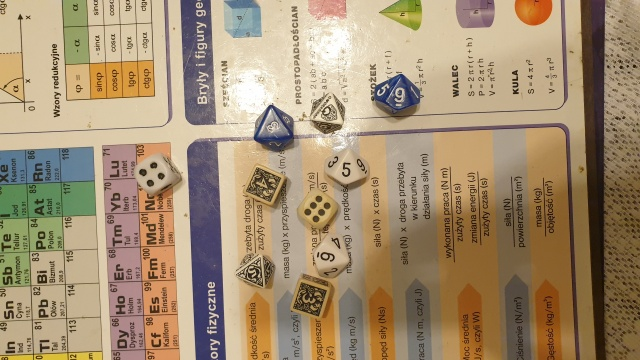d10-3: (250, 104, 293, 152)
d10-5: (322, 143, 370, 189)
d10-6: (310, 232, 350, 279)
d10-9: (373, 72, 423, 114)
d6-4: (130, 153, 182, 197)
d6-6: (296, 188, 338, 231)
d6p-3: (287, 274, 334, 321)
d6p-4: (242, 163, 287, 209)
d8p-5: (230, 250, 276, 291)
d8p-8: (308, 93, 345, 133)
